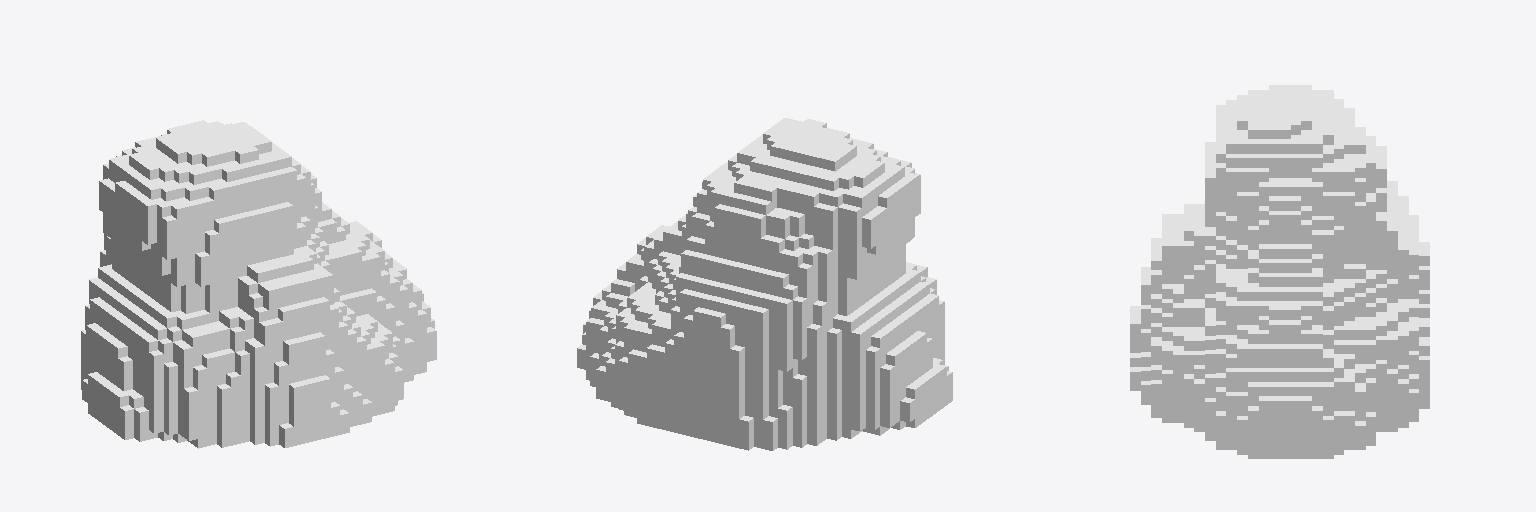
File: rock_3.obj
The picture shows the model from 3 angles: view 1: azimuth 30°, elevation 25°; view 2: azimuth 150°, elevation 25°; view 3: azimuth 270°, elevation 25°; orthographic projection.
Parts seen in each view (by area): view 1: object 1; view 2: object 1; view 3: object 1.
Boxes of the visible parts, box(x1,y1,x2,y2) form: object 1: box(81, 120, 436, 448); object 1: box(577, 118, 952, 450); object 1: box(1130, 85, 1429, 458).
Bounding box in the file's own units: 3.4 × 2.6 × 2.8.